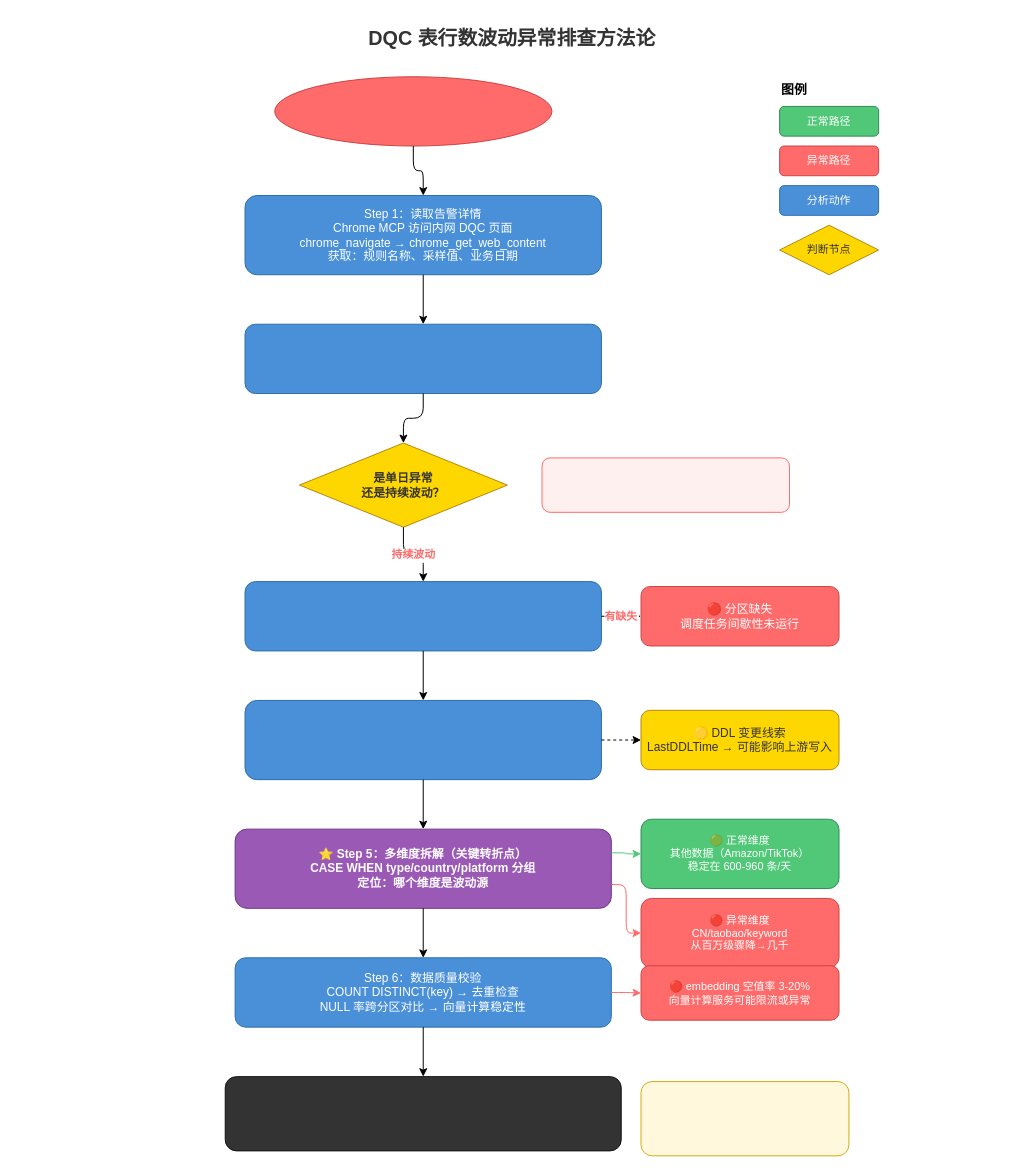
The diagram is 1024 pixels wide and 1173 high, and some of its shapes have lost their labels. Each missing label, with the box of its shape:
Step 2：宏观趋势分析 SQL: GROUP BY ds + COUNT(1) 拉长时间窗口（近 3 周）: (244, 323, 601, 394)
Step 3：分区完整性检查 SHOW PARTITIONS table_name; 发现缺失分区 → 调度任务失败: (244, 581, 601, 651)
Step 4：表结构分析 DESC table_name; 理解字段含义、业务语义 关注：LastDDLTime（DDL 变更记录）: (244, 699, 601, 780)
Step 7：形成结论 单日告警 → 系统性链路问题（持续 2 周+） 根因：CN/taobao 关键词向量化链路不稳定: (224, 1076, 621, 1151)
⚠️ 经验：拉长时间窗口再判断！ 单日异常往往是系统性问题冰山一角: (541, 457, 790, 512)
💡 核心经验 不要被单日告警限制视野 拉长时间窗口 + 多维度拆解 才能看到真正的问题模式: (640, 1081, 849, 1156)
🔴 DQC 红色告警 表行数波动 > 阈值 1.3: (274, 76, 552, 146)
